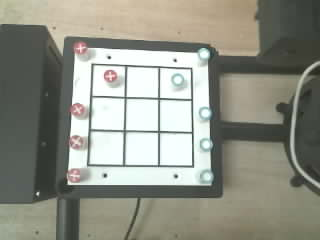blue circle: (200, 169, 213, 183), (198, 48, 211, 61), (199, 107, 212, 120), (171, 73, 184, 86), (200, 138, 212, 151)
board: (67, 42, 213, 185)
cells: (125, 132, 157, 165), (89, 132, 122, 164), (91, 98, 124, 129), (160, 133, 191, 165), (92, 65, 124, 96), (126, 99, 157, 130), (160, 100, 191, 131), (160, 68, 191, 98), (127, 67, 158, 97)
grid: (87, 64, 193, 167)
red cross: (69, 135, 83, 149), (70, 103, 85, 116), (104, 70, 118, 83), (73, 41, 87, 54), (67, 169, 80, 182)
